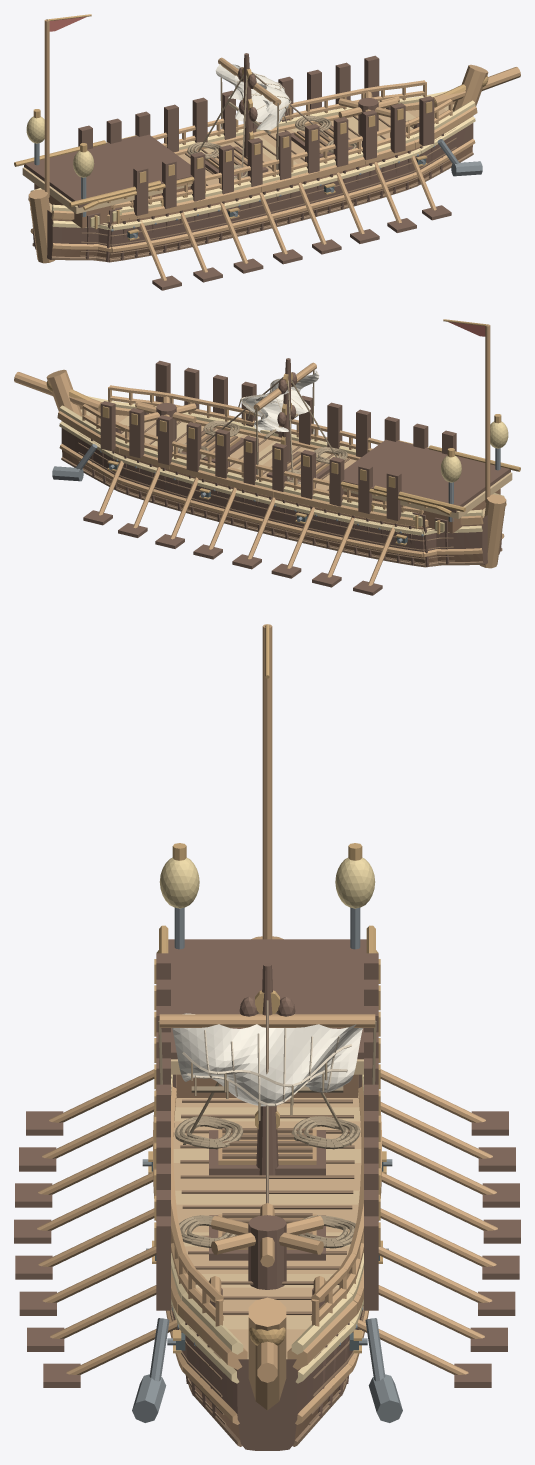
File: sekibune-v5.glb
3 views of the same model, one above another, from view 1: azimuth 30°, elevation 25°; view 2: azimuth 150°, elevation 25°; view 3: azimuth 270°, elevation 25° (orthographic). The views are drawn at different scales.
Parts seen in each view (by area): view 1: sekibune_ornament_darkwood, sekibune_hull_wood, sekibune_hull_darkwood, sekibune_deck_darkwood, sekibune_hull_pale, sekibune_railings_wood, sekibune_hull_seam, sekibune_oars_wood, sekibune_hull_hull, sekibune_oars_darkwood, sekibune_sails_ivory, sekibune_deck_bronze (+17 smaller); view 2: sekibune_ornament_darkwood, sekibune_hull_wood, sekibune_hull_darkwood, sekibune_deck_darkwood, sekibune_hull_pale, sekibune_railings_wood, sekibune_hull_seam, sekibune_oars_wood, sekibune_hull_hull, sekibune_oars_darkwood, sekibune_sails_ivory, sekibune_deck_bronze (+17 smaller); view 3: sekibune_oars_wood, sekibune_oars_darkwood, sekibune_deck_darkwood, sekibune_hull_deck, sekibune_sails_ivory, sekibune_ornament_darkwood, sekibune_hull_wood, sekibune_hull_darkwood, sekibune_hull_seam, sekibune_hull_decklight, sekibune_fittings_darkwood, sekibune_fittings_iron (+14 smaller).
Boxes of the visible parts, x1,y1,x2,y2 form: sekibune_ornament_darkwood: (78,55,434,215); sekibune_hull_wood: (28,64,520,263); sekibune_hull_darkwood: (32,123,473,262); sekibune_deck_darkwood: (24,134,192,228); sekibune_hull_pale: (30,91,475,230); sekibune_railings_wood: (111,80,452,209); sekibune_hull_seam: (32,115,473,262); sekibune_oars_wood: (140,155,436,280); sekibune_hull_hull: (51,103,472,259); sekibune_oars_darkwood: (152,205,451,290); sekibune_sails_ivory: (215,64,289,129); sekibune_deck_bronze: (14,135,194,229); sekibune_ornament_darkwood: (100,360,456,520); sekibune_hull_wood: (14,369,506,568); sekibune_hull_darkwood: (61,428,502,567); sekibune_deck_darkwood: (342,439,510,533); sekibune_hull_pale: (59,396,504,535); sekibune_railings_wood: (82,385,423,514); sekibune_hull_seam: (61,420,502,567); sekibune_oars_wood: (98,460,394,585); sekibune_hull_hull: (62,408,483,564); sekibune_oars_darkwood: (83,510,382,595); sekibune_sails_ivory: (242,369,319,434); sekibune_deck_bronze: (340,440,520,534); sekibune_oars_wood: (37,1069,497,1374); sekibune_oars_darkwood: (14,1111,520,1387); sekibune_deck_darkwood: (168,939,366,1088); sekibune_hull_deck: (173,1093,361,1357); sekibune_sails_ivory: (172,1013,362,1106); sekibune_ornament_darkwood: (156,953,378,1310); sekibune_hull_wood: (153,936,381,1424); sekibune_hull_darkwood: (171,1305,363,1450); sekibune_hull_seam: (170,1099,364,1446); sekibune_hull_decklight: (173,1107,361,1359); sekibune_fittings_darkwood: (209,1130,325,1307); sekibune_fittings_iron: (132,907,402,1422).
Bounding box in the file's own units: 39.98 × 18.89 × 19.06.
